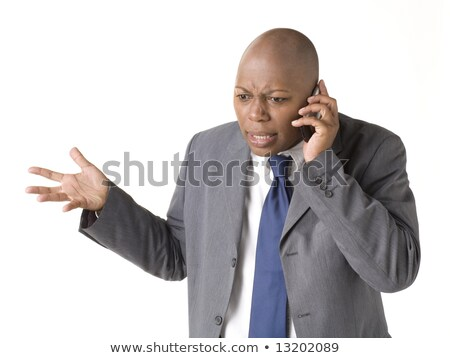phone: (298, 85, 331, 142)
talk: (239, 81, 346, 158)
